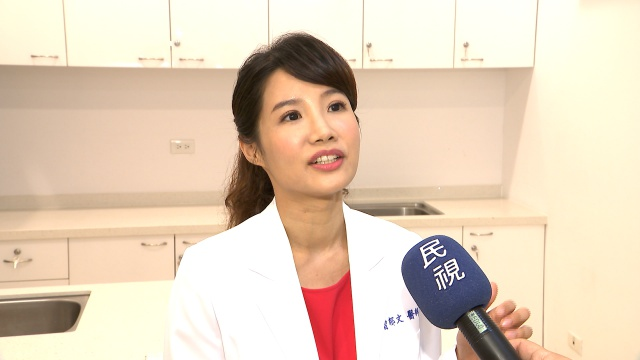female: (219, 25, 409, 240)
